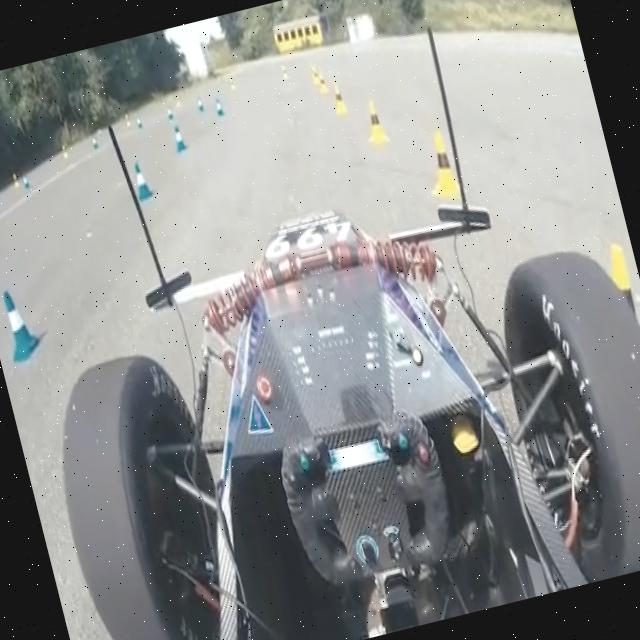blue_cone: (0, 268, 56, 371), (118, 158, 168, 220), (168, 123, 195, 159)
yellow_cone: (406, 112, 466, 209), (592, 220, 640, 339), (356, 88, 396, 152), (324, 74, 349, 112)
